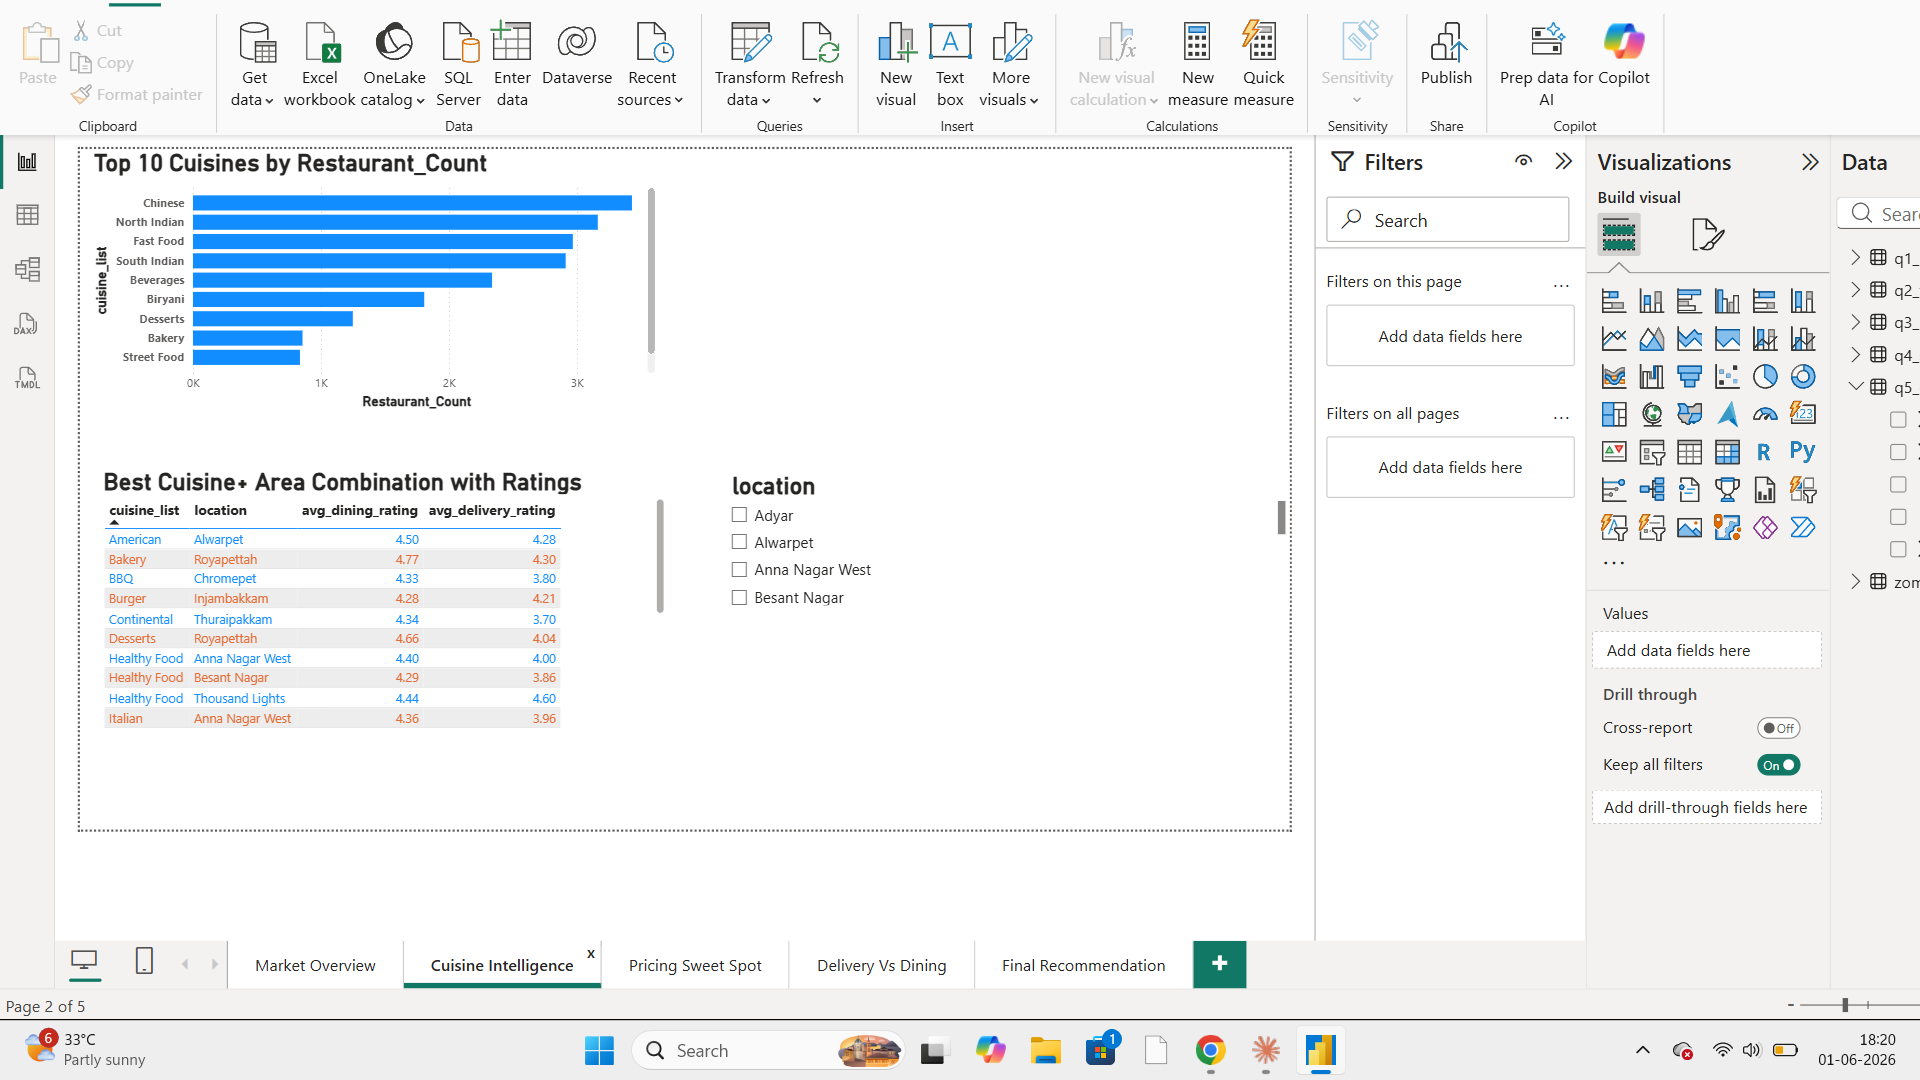

Layout of this report page (visuals, bound fields, positions):
{"tool":"powerbi","page":{"name":"Cuisine Intelligence","canvas":[1280,720],"ordinal":1},"visuals":[{"type":"clusteredBarChart","title":"Top 10 Cuisines by Restaurant_Count","fields":{"Category":["q1_popular_cuisines csv.cuisine_list"],"Y":["Sum(q1_popular_cuisines csv.Restaurant_Count)"]},"box":[9.6,0,603.8,279.9],"z":0},{"type":"tableEx","title":"Best Cuisine+ Area Combination with Ratings","fields":{"Values":["q5_cuisine_area_combo csv.cuisine_list","q5_cuisine_area_combo csv.location","Sum(q5_cuisine_area_combo csv.avg_dining_rating)","Sum(q5_cuisine_area_combo csv.avg_delivery_rating)"]},"box":[20.6,337.6,603.8,279.9],"z":1000},{"type":"slicer","fields":{"Values":["q5_cuisine_area_combo csv.location"]},"box":[676.5,337.6,603.8,150.9],"z":2000}]}

Visuals, with their boxes on the page's 1280x720 design canvas (x1, y1, x2, y2). These are canvas units, not pixel positions in the 1920x1080 screenshot, which may show the page scaled, cropped or inside an application window:
"Top 10 Cuisines by Restaurant_Count" clusteredBarChart: 10 0 613 280
"Best Cuisine+ Area Combination with Ratings" tableEx: 21 338 624 618
slicer - q5_cuisine_area_combo csv.location: 676 338 1280 488
